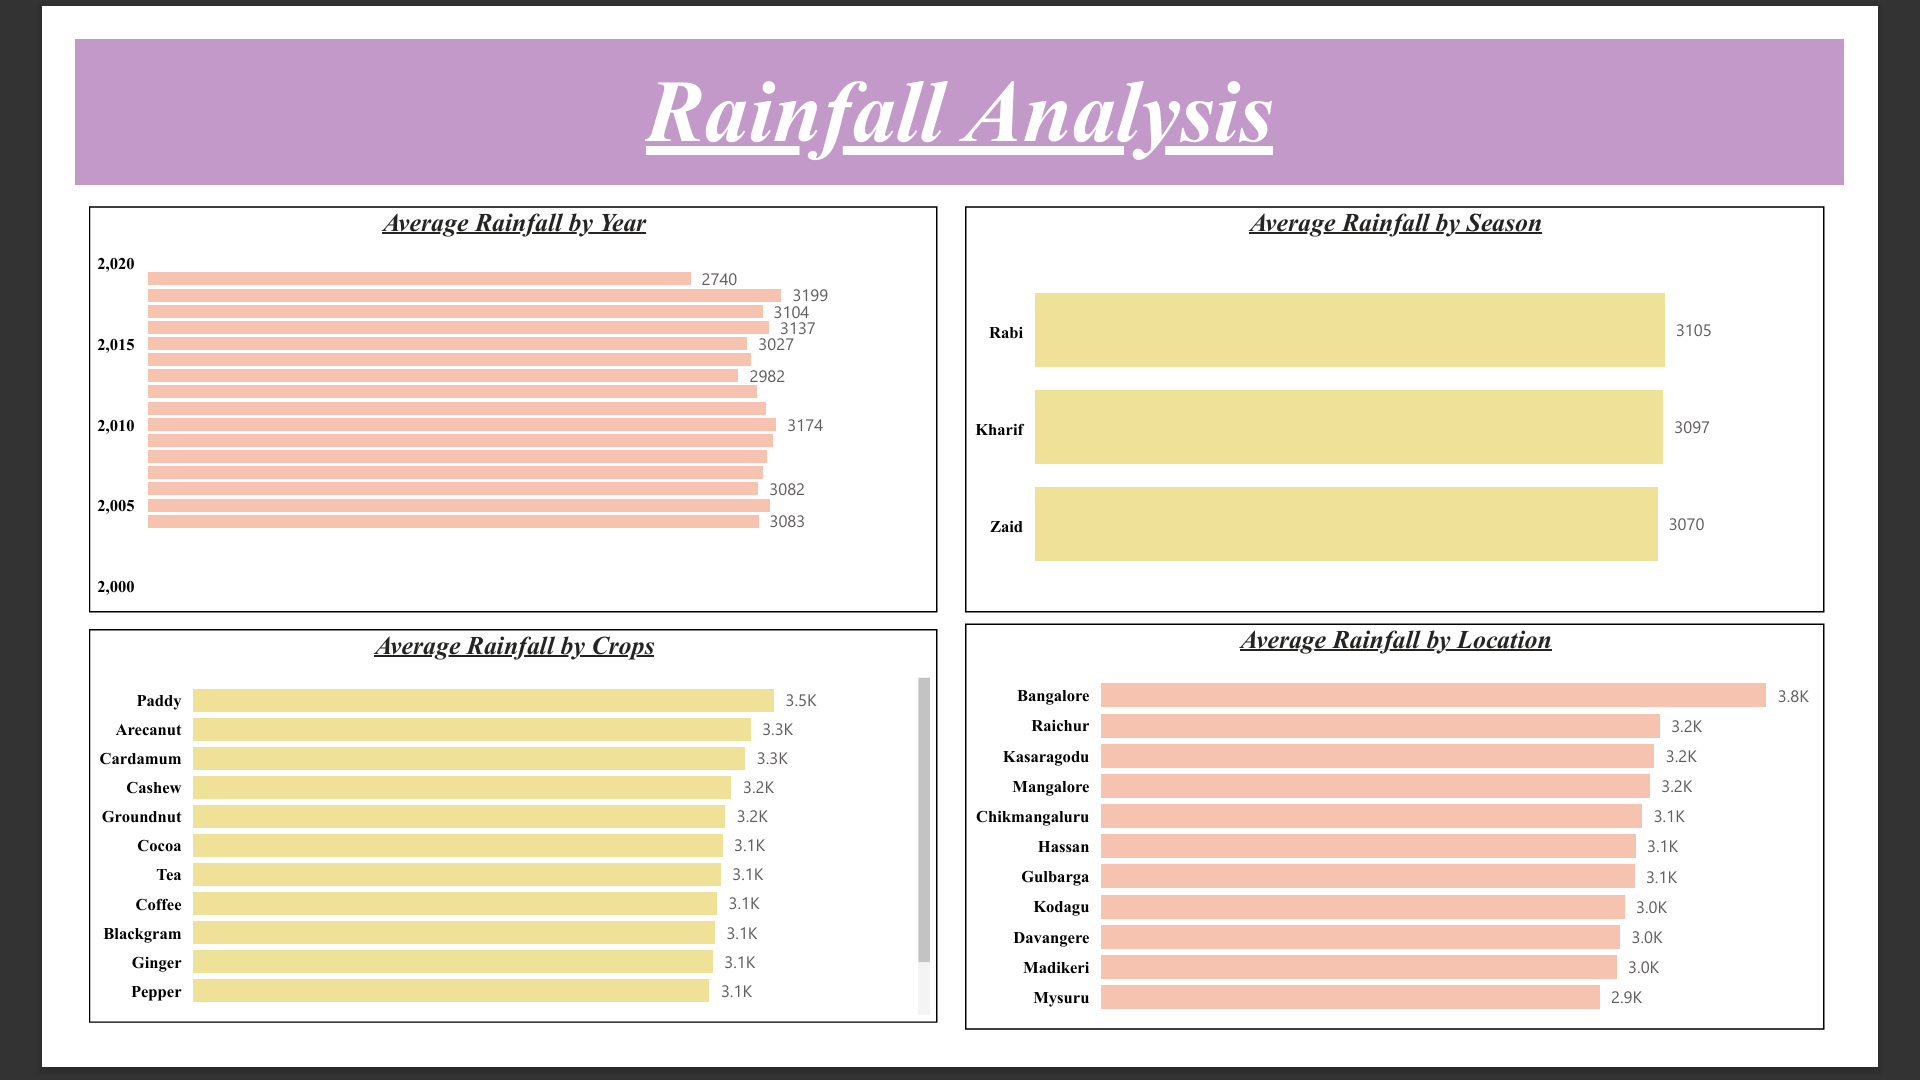

Layout of this report page (visuals, bound fields, positions):
{"tool":"powerbi","page":{"name":"Rainfall Analysis","canvas":[1280,720],"ordinal":0},"visuals":[{"type":"shape","box":[0,0,1280.3,105.2],"z":0},{"type":"barChart","title":"Average Rainfall by Year","fields":{"Y":["Avg(AGGRICULTURE.RAINFALL)"],"Category":["AGGRICULTURE.YEAR"]},"box":[9.8,121.1,613.9,293.5],"z":1},{"type":"barChart","title":"Average Rainfall by Season","fields":{"Y":["Avg(AGGRICULTURE.RAINFALL)"],"Category":["AGGRICULTURE.SEASON"]},"box":[644.4,121.1,621.2,293.5],"z":2},{"type":"barChart","title":"Average Rainfall by Crops","fields":{"Y":["Avg(AGGRICULTURE.RAINFALL)"],"Category":["AGGRICULTURE.CROPS"]},"box":[9.8,426.8,613.9,284.9],"z":3},{"type":"barChart","title":"Average Rainfall by Location","fields":{"Y":["Avg(AGGRICULTURE.RAINFALL)"],"Category":["AGGRICULTURE.LOCATION"]},"box":[644.4,423.1,621.2,293.5],"z":4}]}

Visuals, with their boxes in screenshot pixels (x1, y1, x2, y2), scaled from the page's 1280x720 canvas onto the 1920x1080 screenshot:
shape: region(0, 0, 1919, 158)
"Average Rainfall by Year" barChart: region(15, 182, 936, 622)
"Average Rainfall by Season" barChart: region(967, 182, 1898, 622)
"Average Rainfall by Crops" barChart: region(15, 640, 936, 1068)
"Average Rainfall by Location" barChart: region(967, 635, 1898, 1075)
